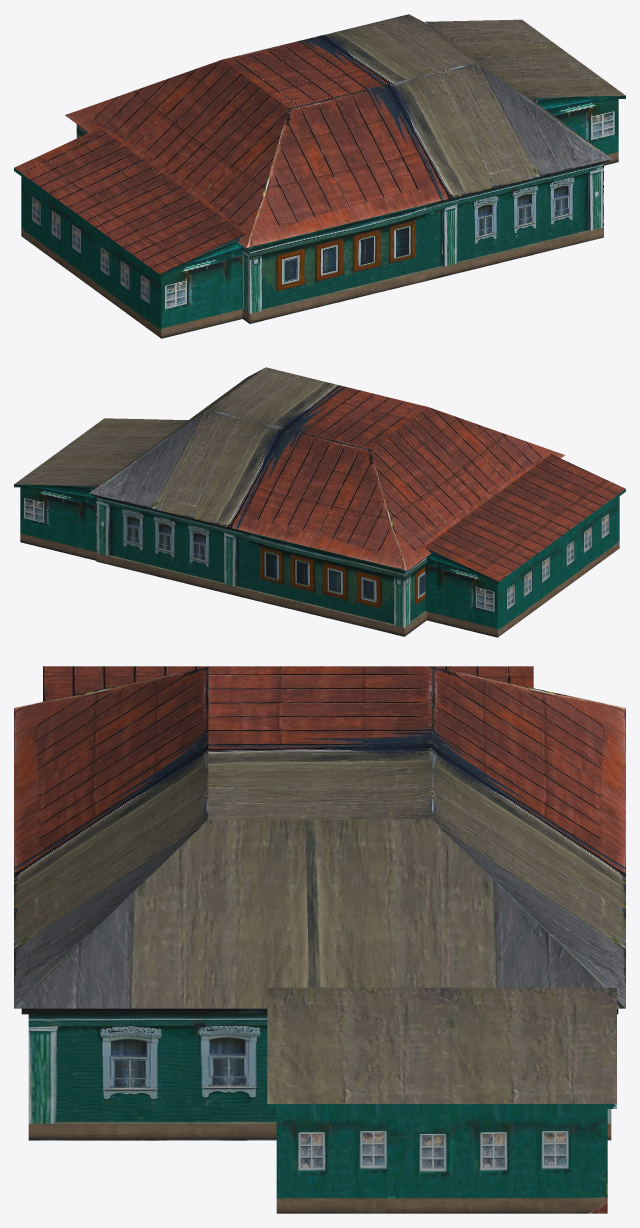
File: house.glb
3 views of the same model, one above another, from view 1: azimuth 30°, elevation 25°; view 2: azimuth 150°, elevation 25°; view 3: azimuth 270°, elevation 25° (orthographic). The views are drawn at different scales.
Parts seen in each view (by area): view 1: 1:1:2D_Dom5_0; view 2: 1:1:2D_Dom5_0; view 3: 1:1:2D_Dom5_0.
Boxes of the visible parts, x1,y1,x2,y2 form: 1:1:2D_Dom5_0: (14, 14, 625, 338); 1:1:2D_Dom5_0: (14, 367, 625, 637); 1:1:2D_Dom5_0: (14, 666, 625, 1213).
Bounding box in the file's own units: 22.09 × 6.11 × 13.06.
1 material, 1 textured.
